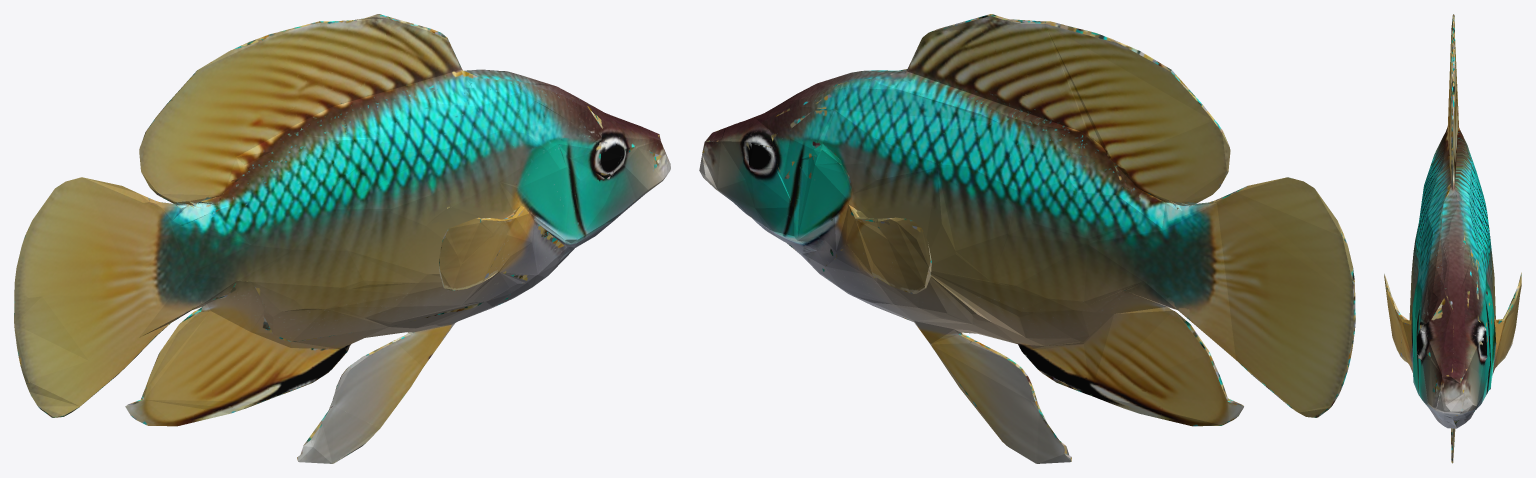
File: fish_0125_smpl23_resized.glb
3 views of the same model, side by side, from view 1: azimuth 30°, elevation 25°; view 2: azimuth 150°, elevation 25°; view 3: azimuth 270°, elevation 25° (orthographic). The views are drawn at different scales.
Visible parts, largest first — view 1: world; view 2: world; view 3: world.
Boxes of the visible parts, bbox=[...] form: world: bbox=[14, 14, 670, 463]; world: bbox=[699, 14, 1355, 463]; world: bbox=[1384, 14, 1521, 463].
Size of the model in its own units: 1.99 by 1.3 by 0.3988.
Materials: 1 (1 with a texture image).
